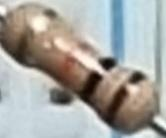Black: (76, 55, 119, 104)
Brown: (99, 68, 151, 127)
Orange: (48, 37, 92, 84)
Side-Gold: (10, 3, 62, 64)
